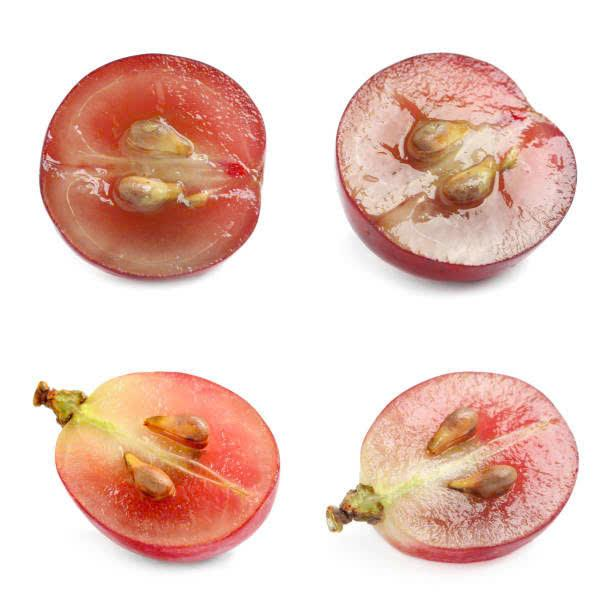grape: (319, 41, 589, 292), (32, 39, 278, 298), (321, 352, 597, 571), (23, 354, 284, 562)
